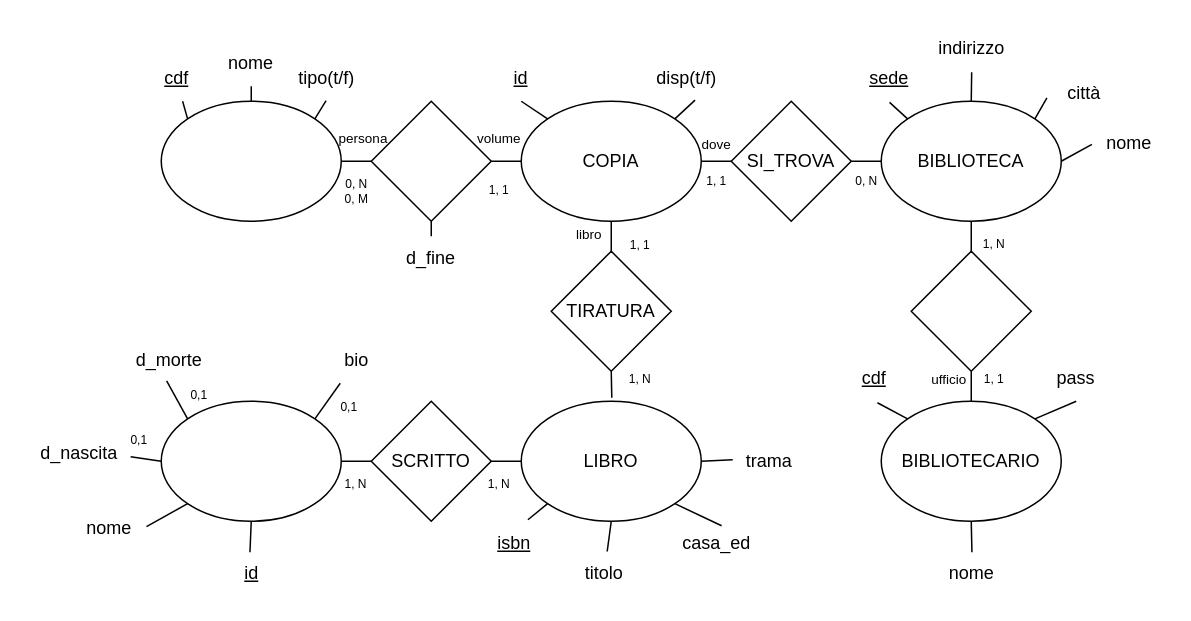
The diagram is 1191 pixels wide and 621 high, and some of its shapes have lost their labels. Here are the shapes that lost their labels. From the top down, the box of each, then its label:
(160, 100, 341, 221): LETTORE
(370, 100, 491, 221): PRESTATO
(910, 250, 1031, 371): LAVORA
(160, 400, 341, 521): AUTORE
